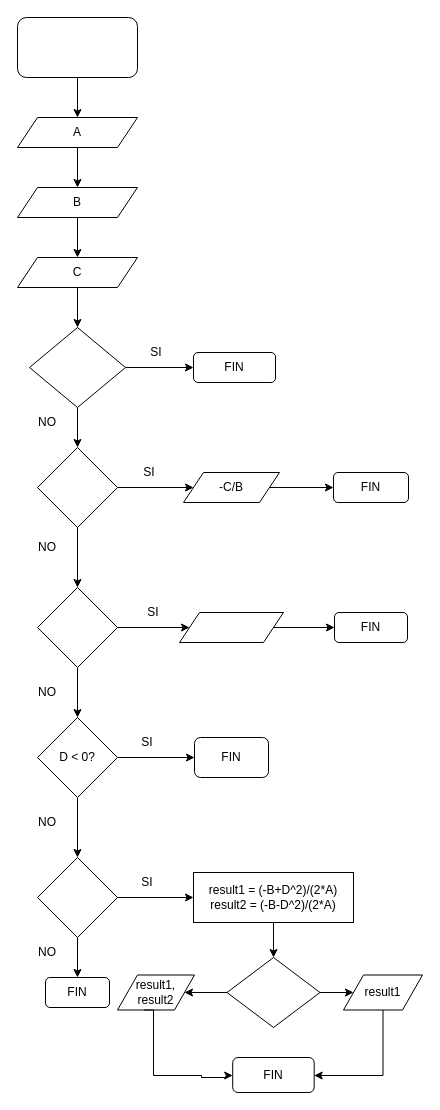
Image size: 440x1110. Some labels were removed from this diagram. The centre of each missing label's shape, as x and y in pixels:
(-C/A)^2: point 231,627
A==0 ?: point 77,487
A==0 y B==0?: point 77,367
B==0 ?: point 77,627
D >= 0 ?: point 77,897
INICIO: point 77,47
result1 == result2 ?: point 273,992
